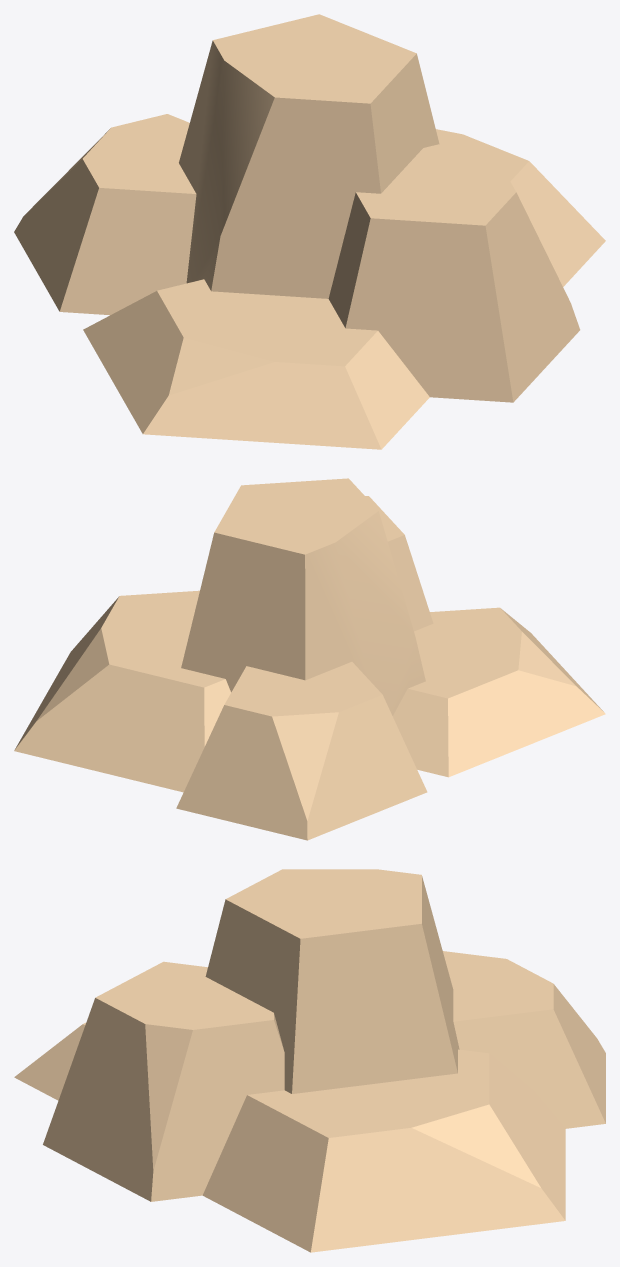
File: StoneDirt.glb
3 renders of one model, top to bottom at view 1: azimuth 30°, elevation 25°; view 2: azimuth 150°, elevation 25°; view 3: azimuth 270°, elevation 25°, orthographic. The views are drawn at different scales.
Visible parts, largest first — view 1: snow_detail_dirtLarge; view 2: snow_detail_dirtLarge; view 3: snow_detail_dirtLarge.
Part boxes in pixels (bbox=[...]): snow_detail_dirtLarge: bbox=[14, 14, 605, 449]; snow_detail_dirtLarge: bbox=[14, 478, 605, 840]; snow_detail_dirtLarge: bbox=[14, 869, 605, 1252].
Size of the model in its own units: 1 by 0.4186 by 1.
